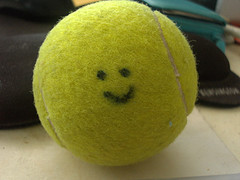tennis ball: (31, 1, 198, 165)
